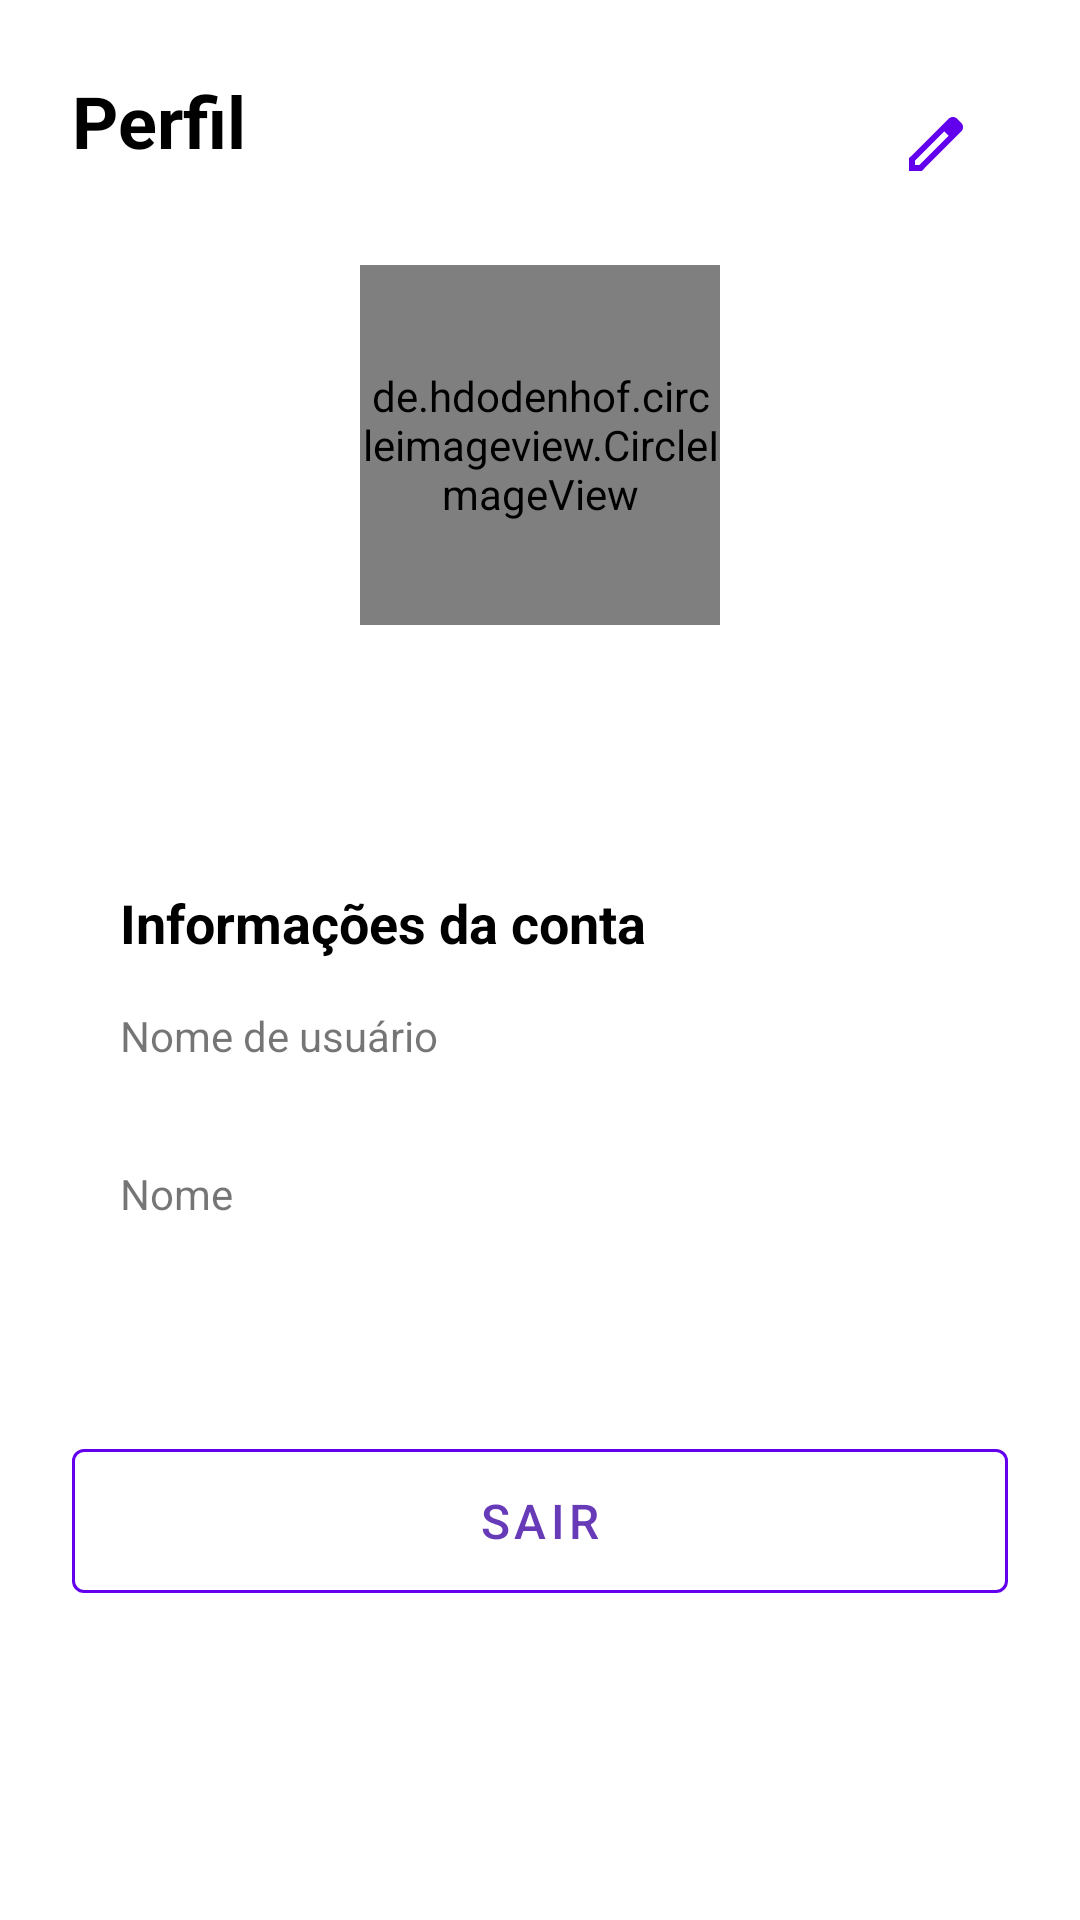

Locate icon controls on the screen. Image size 1080 × 1920, boxes as (x1, y1, x2, y2).
edit: (909, 117, 963, 171)
